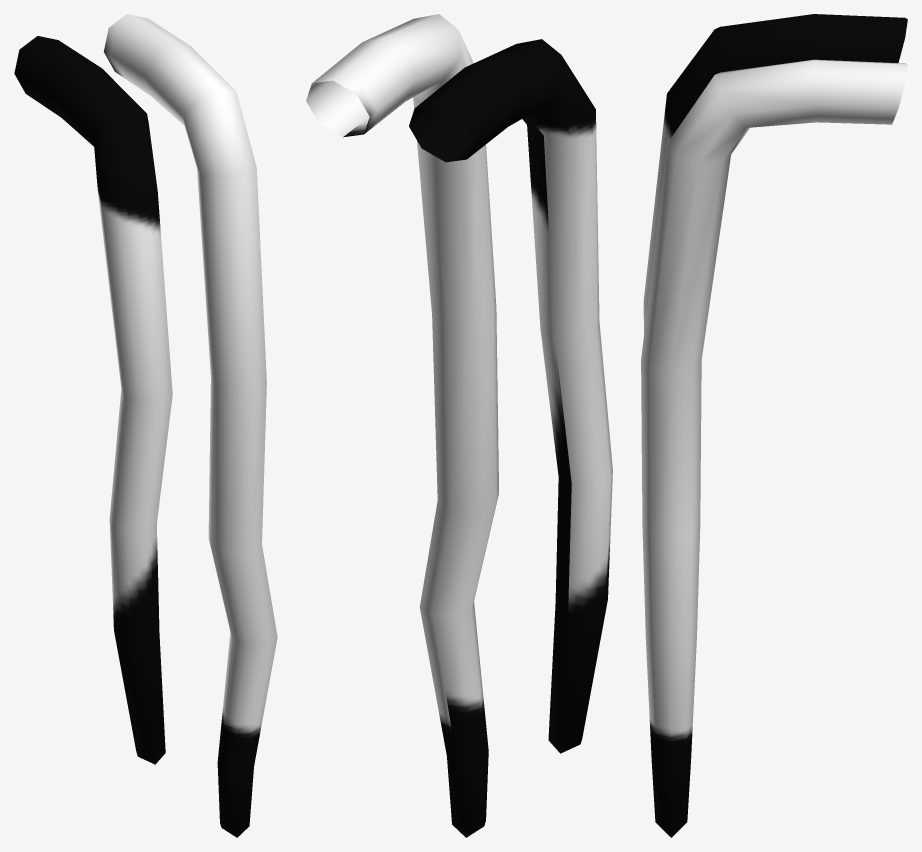
File: Short vine.FBX
3 views of the same model, side by side, from view 1: azimuth 30°, elevation 25°; view 2: azimuth 150°, elevation 25°; view 3: azimuth 270°, elevation 25° (orthographic). The views are drawn at different scales.
Visible parts, largest first — view 1: Object053; view 2: Object053; view 3: Object053.
Part boxes in pixels (box(x1,y1,x2,y2)): Object053: box(14, 14, 277, 837); Object053: box(306, 14, 612, 837); Object053: box(641, 14, 907, 837).
Size of the model in its own units: 30 by 131 by 40.64.
